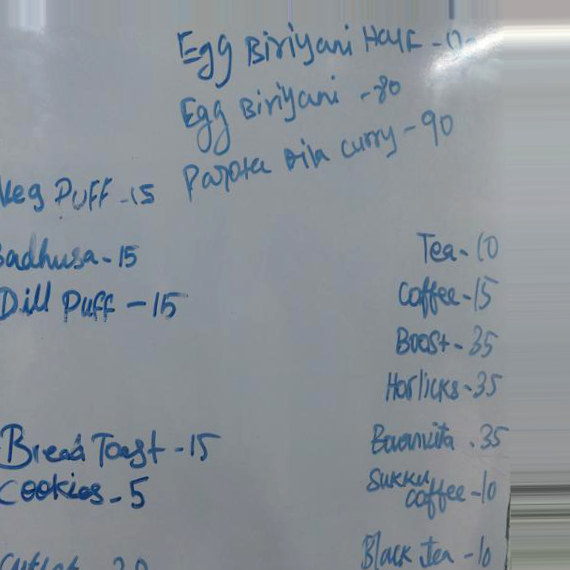Tea - 10: (408, 228, 507, 270)
badhusa -15: (1, 231, 147, 275)
black tea - 10: (359, 526, 500, 570)
boost - 35: (394, 324, 505, 367)
bournvita - 35: (366, 418, 514, 458)
bread toast - 15: (1, 417, 225, 470)
coffee - 15: (393, 271, 502, 321)
cookies - 5: (1, 473, 155, 511)
dill puff - 15: (1, 281, 196, 327)
egg briyani - 80: (171, 70, 350, 131)
egg briyani half -50: (165, 25, 491, 65)
horlicks - 35: (383, 365, 508, 410)
parotta - 90: (169, 132, 407, 202)
sukku coffee - 10: (366, 464, 503, 524)
veg puff - 15: (1, 173, 158, 216)
